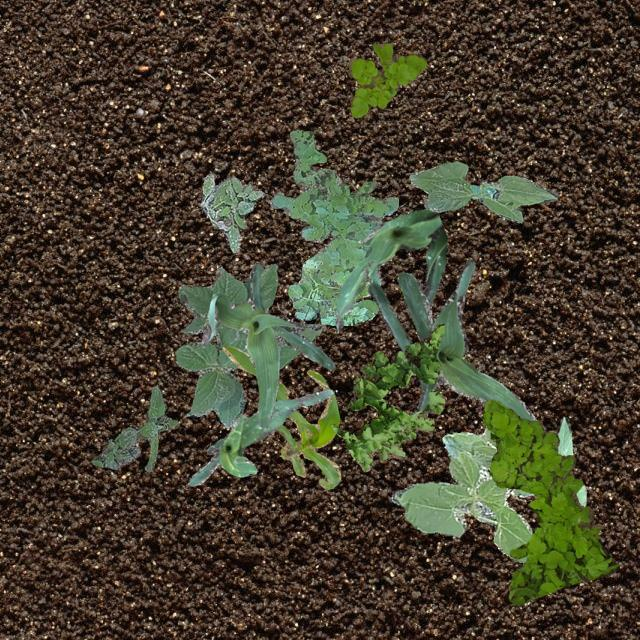crop: (368, 258, 536, 420), (174, 263, 320, 427), (200, 263, 334, 427), (391, 424, 534, 562), (222, 344, 340, 488), (334, 208, 446, 332), (188, 388, 332, 484), (408, 160, 558, 222), (556, 416, 586, 506)
weed: (482, 398, 618, 604), (268, 128, 398, 324), (330, 322, 444, 470), (90, 384, 178, 472), (348, 42, 426, 118), (200, 172, 264, 252)
